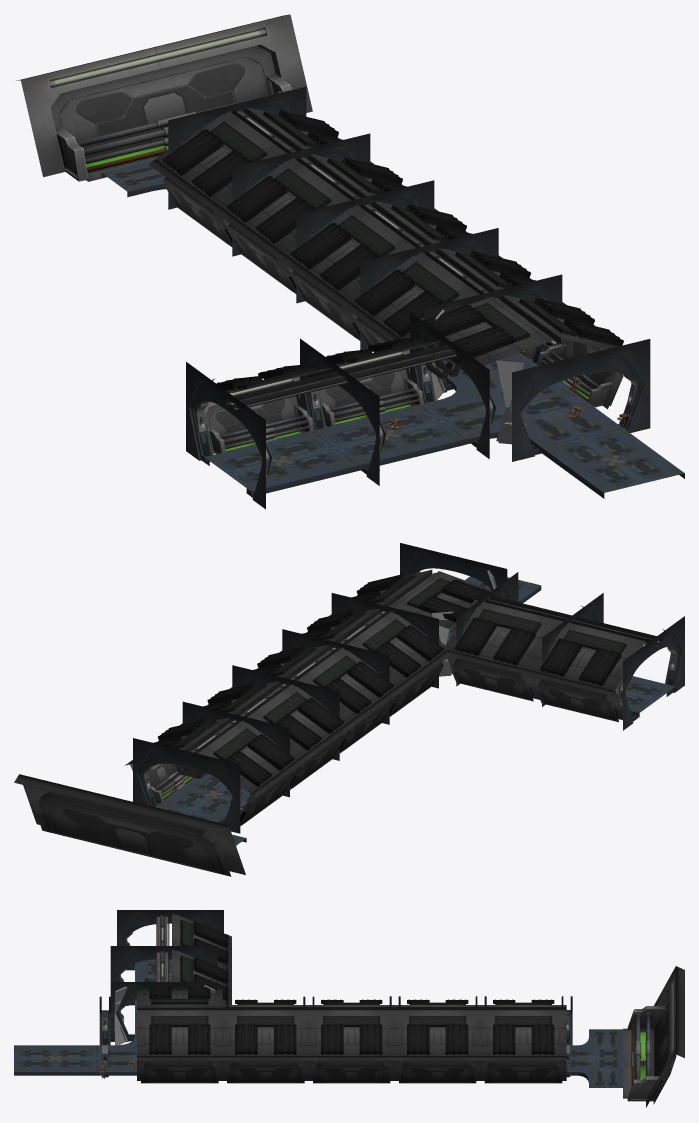
File: env_tfed_dreadnaught_hallway_01_pre.glb
3 views of the same model, one above another, from view 1: azimuth 30°, elevation 25°; view 2: azimuth 150°, elevation 25°; view 3: azimuth 270°, elevation 25° (orthographic). The views are drawn at different scales.
Visible parts, largest first — view 1: tfed_wall_03_mesh (8), tfed_floor_01b_mesh, tfed_arch_01_mesh (8), tfed_ceiling_01_mesh (2), tfed_ceiling_01_mesh (4), tfed_ceiling_01_mesh (6), tfed_floor_01a_mesh (4), tfed_floor_01a_mesh (6), tfed_floor_01a_mesh (5), tfed_ceiling_01_mesh, tfed_ceiling_01_mesh (8), tfed_arch_01_mesh (7) (+28 smaller); view 2: tfed_wall_03_mesh (8), tfed_ceiling_01_mesh (10), tfed_ceiling_01_mesh (11), tfed_arch_01_mesh (3), tfed_ceiling_01_mesh (2), tfed_ceiling_01_mesh, tfed_ceiling_01_mesh (4), tfed_ceiling_01_mesh (6), tfed_ceiling_01_mesh (8), tfed_wall_03_mesh (11), tfed_wall_03_mesh (9), tfed_arch_01_mesh (7) (+25 smaller); view 3: tfed_wall_03_mesh (8), tfed_ceiling_01_mesh (1), tfed_ceiling_01_mesh (3), tfed_ceiling_01_mesh (5), tfed_ceiling_01_mesh (7), tfed_ceiling_01_mesh (9), tfed_floor_01b_mesh (1), tfed_floor_01a_mesh (4), tfed_wall_03_mesh (4), tfed_wall_03_mesh (7), tfed_wall_03_mesh (5), tfed_wall_03_mesh (6) (+22 smaller).
Boxes of the visible parts, left/top/right/bottom form: tfed_wall_03_mesh (8): left=16, top=14, right=312, bottom=181; tfed_floor_01b_mesh: left=419, top=352, right=622, bottom=452; tfed_arch_01_mesh (8): left=512, top=339, right=650, bottom=461; tfed_ceiling_01_mesh (2): left=284, top=204, right=415, bottom=299; tfed_ceiling_01_mesh (4): left=220, top=158, right=351, bottom=252; tfed_ceiling_01_mesh (6): left=156, top=111, right=286, bottom=205; tfed_floor_01a_mesh (4): left=542, top=428, right=684, bottom=498; tfed_floor_01a_mesh (6): left=204, top=431, right=357, bottom=496; tfed_floor_01a_mesh (5): left=312, top=405, right=465, bottom=470; tfed_ceiling_01_mesh: left=348, top=252, right=479, bottom=338; tfed_ceiling_01_mesh (8): left=420, top=296, right=552, bottom=365; tfed_arch_01_mesh (7): left=186, top=362, right=271, bottom=509; tfed_wall_03_mesh (8): left=14, top=774, right=245, bottom=876; tfed_ceiling_01_mesh (10): left=445, top=600, right=559, bottom=669; tfed_ceiling_01_mesh (11): left=529, top=620, right=645, bottom=690; tfed_arch_01_mesh (3): left=133, top=738, right=240, bottom=833; tfed_ceiling_01_mesh (2): left=297, top=648, right=399, bottom=720; tfed_ceiling_01_mesh: left=346, top=611, right=447, bottom=684; tfed_ceiling_01_mesh (4): left=247, top=684, right=349, bottom=757; tfed_ceiling_01_mesh (6): left=197, top=720, right=299, bottom=793; tfed_ceiling_01_mesh (8): left=390, top=571, right=492, bottom=628; tfed_wall_03_mesh (11): left=527, top=670, right=622, bottom=722; tfed_wall_03_mesh (9): left=447, top=650, right=539, bottom=701; tfed_arch_01_mesh (7): left=618, top=616, right=684, bottom=730; tfed_wall_03_mesh (8): left=623, top=966, right=684, bottom=1107; tfed_ceiling_01_mesh (1): left=222, top=1010, right=308, bottom=1055; tfed_ceiling_01_mesh (3): left=308, top=1010, right=394, bottom=1055; tfed_ceiling_01_mesh (5): left=394, top=1010, right=480, bottom=1055; tfed_ceiling_01_mesh (7): left=480, top=1010, right=566, bottom=1055; tfed_ceiling_01_mesh (9): left=137, top=1010, right=222, bottom=1055; tfed_floor_01b_mesh (1): left=567, top=1029, right=623, bottom=1087; tfed_floor_01a_mesh (4): left=14, top=1045, right=96, bottom=1075; tfed_wall_03_mesh (4): left=480, top=1056, right=566, bottom=1083; tfed_wall_03_mesh (7): left=222, top=1056, right=308, bottom=1083; tfed_wall_03_mesh (5): left=394, top=1056, right=480, bottom=1083; tfed_wall_03_mesh (6): left=308, top=1056, right=394, bottom=1083.
Size of the model in its own units: 46.95 by 9.15 by 91.84.
Materials: 7 (7 with a texture image).
